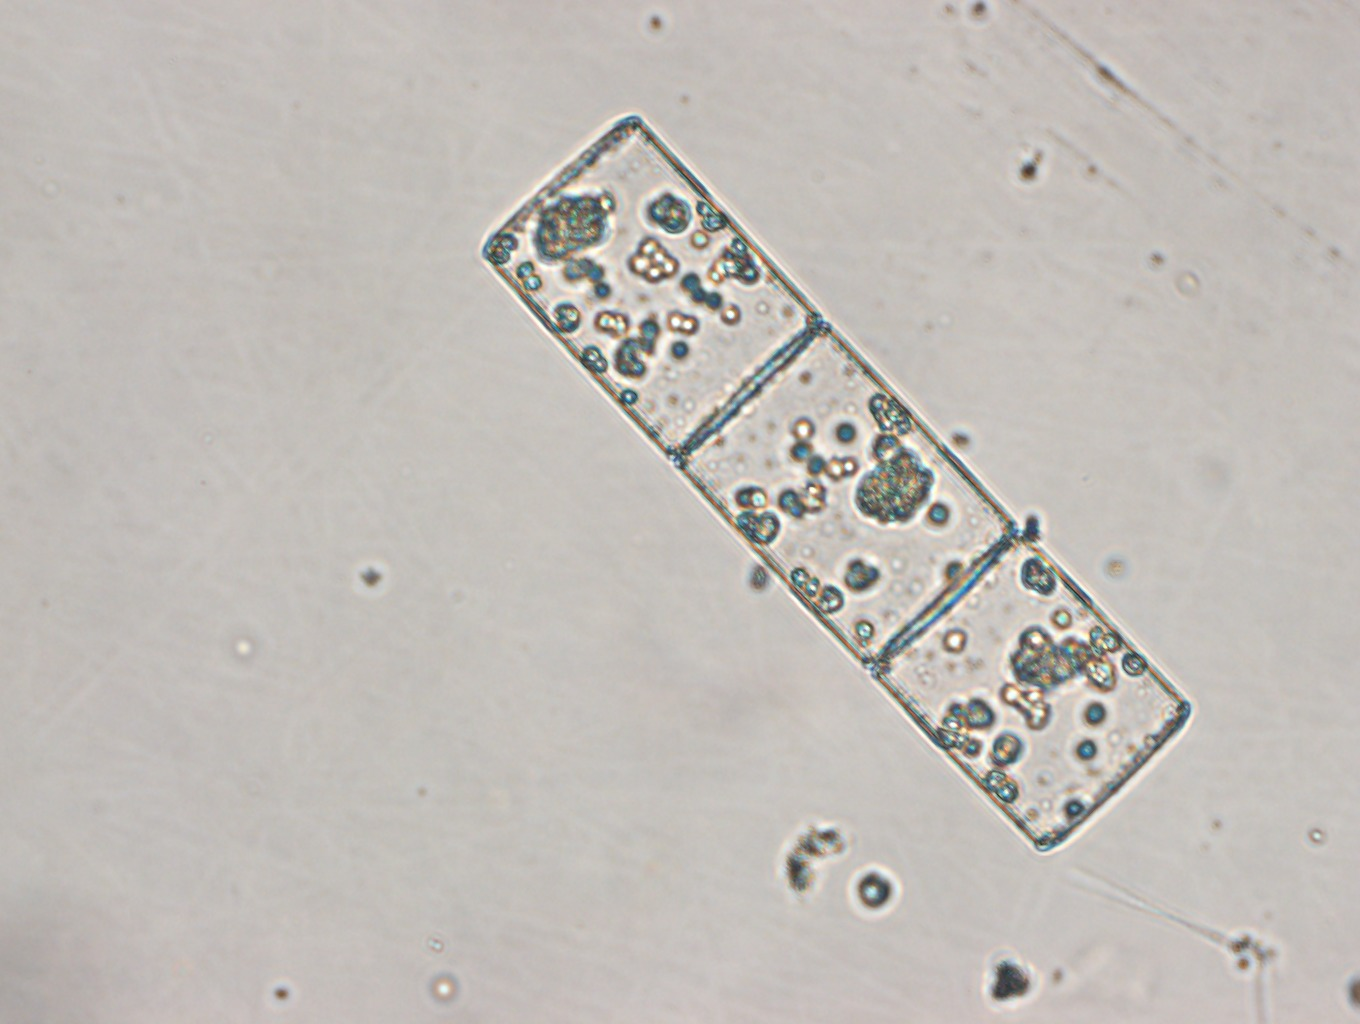guinardia flaccida: (470, 106, 1197, 865)
